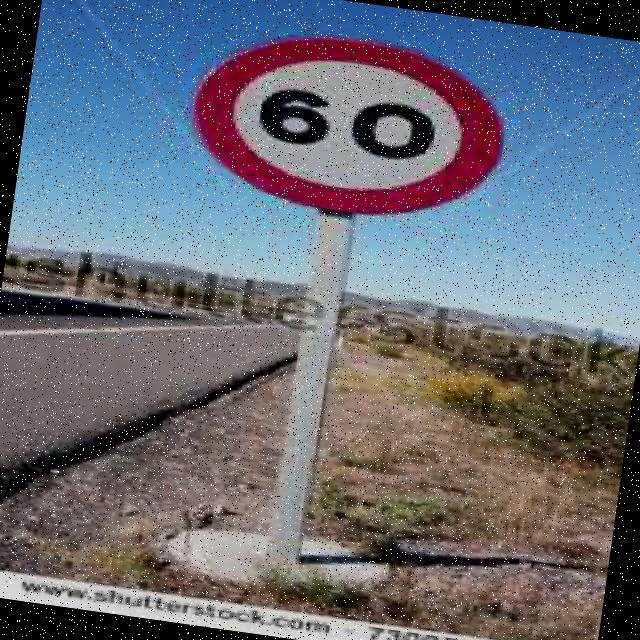Ograniczenie predkosci do 60: (188, 18, 512, 230)
